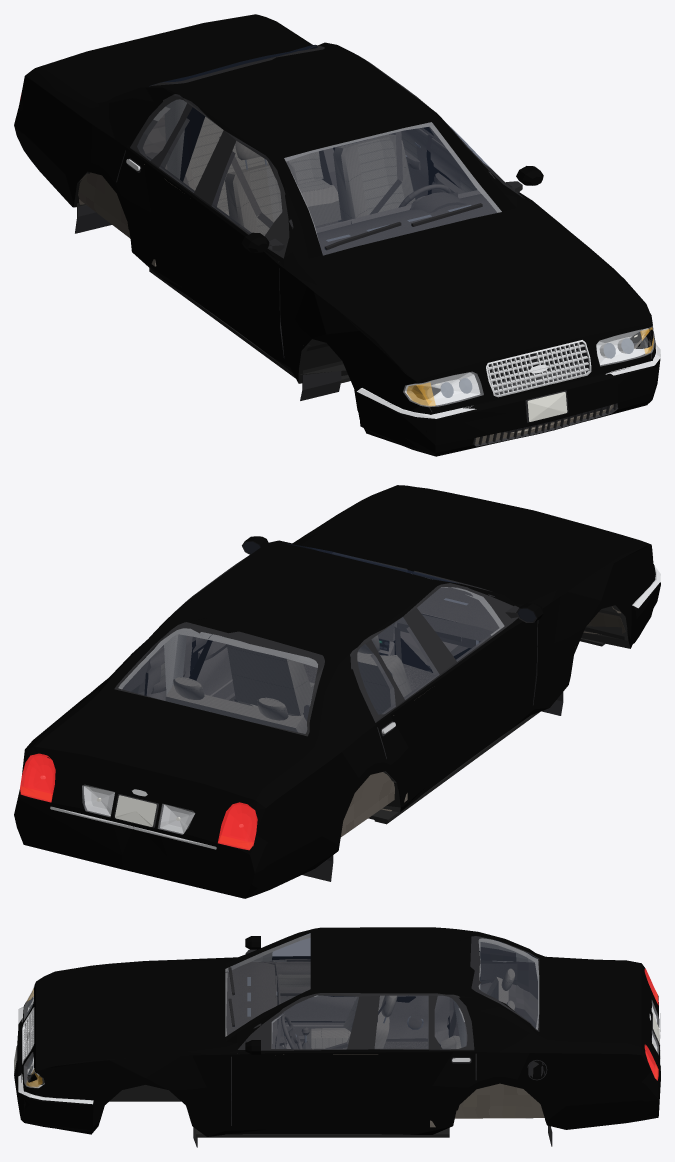
File: body.glb
3 views of the same model, one above another, from view 1: azimuth 30°, elevation 25°; view 2: azimuth 150°, elevation 25°; view 3: azimuth 270°, elevation 25° (orthographic). The views are drawn at different scales.
Visible parts, largest first — view 1: Body, BumperF, Interior_Lining, Interior_SeatDriver, Interior, Interior_RearSeats, Grilles, Interior_Trim, Interior_SeatPassenger, Headlights, Interior_Bare, Mudflaps (+3 smaller); view 2: Body, Interior_Lining, Taillights, Interior_Trim, Interior_SeatDriver, Interior, Interior_RearSeats, Interior_SeatPassenger, Trim, Interior_Bare, BumperF, Mirrors (+3 smaller); view 3: Body, Interior_Lining, Interior_Trim, Interior, BumperF, Interior_Bare, Interior_SeatPassenger, Interior_RearSeats, WellLiners, Interior_SeatDriver, Details, Headlights (+6 smaller).
Part boxes in pixels (<box>): Body: <box>14,14,656,456</box>; BumperF: <box>357,344,660,455</box>; Interior_Lining: <box>78,107,651,444</box>; Interior_SeatDriver: <box>333,131,415,221</box>; Interior: <box>316,139,497,255</box>; Interior_RearSeats: <box>185,117,341,226</box>; Grilles: <box>472,340,616,445</box>; Interior_Trim: <box>144,99,477,266</box>; Interior_SeatPassenger: <box>219,136,298,235</box>; Headlights: <box>403,325,654,407</box>; Interior_Bare: <box>149,107,458,383</box>; Mudflaps: <box>75,205,341,400</box>; Body: <box>14,485,655,898</box>; Interior_Lining: <box>118,587,625,845</box>; Taillights: <box>20,753,257,850</box>; Interior_Trim: <box>122,631,424,802</box>; Interior_SeatDriver: <box>227,644,314,715</box>; Interior: <box>304,587,499,720</box>; Interior_RearSeats: <box>165,677,307,733</box>; Interior_SeatPassenger: <box>357,626,411,714</box>; Trim: <box>50,620,538,849</box>; Interior_Bare: <box>144,636,539,822</box>; BumperF: <box>630,566,660,645</box>; Mirrors: <box>242,536,543,622</box>; Body: <box>22,927,660,1136</box>; Interior_Lining: <box>27,934,545,1121</box>; Interior_Trim: <box>266,942,517,1127</box>; Interior: <box>225,961,348,1049</box>; BumperF: <box>14,1007,93,1131</box>; Interior_Bare: <box>196,951,532,1136</box>; Interior_SeatPassenger: <box>306,995,384,1049</box>; Interior_RearSeats: <box>441,968,515,1048</box>; WellLiners: <box>109,1085,180,1101</box>; Interior_SeatDriver: <box>374,995,397,1048</box>; Details: <box>228,967,547,1080</box>; Headlights: <box>24,987,44,1088</box>.
Size of the model in its own units: 2.19 by 1.28 by 5.31.
Materials: 25 (8 with a texture image).
